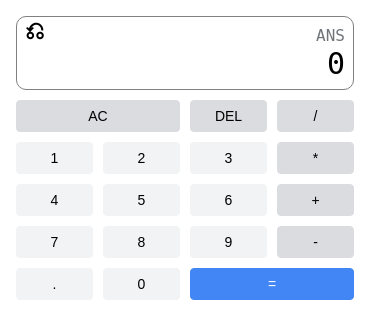
Scenario: Current operation correctly changes after Clear
Press 1
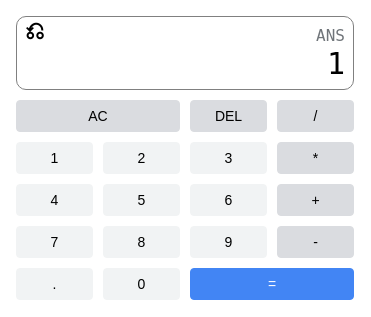
Press +
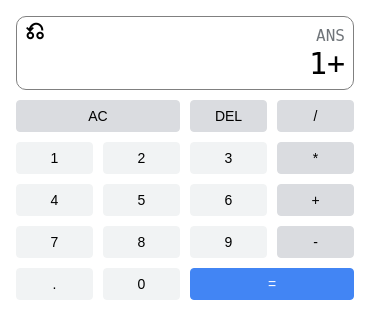
Press 2
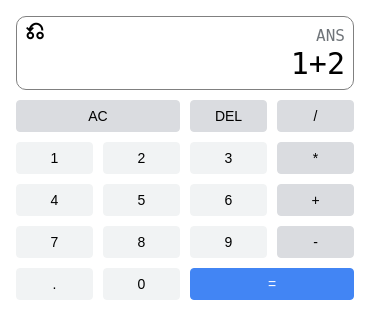
Press 2
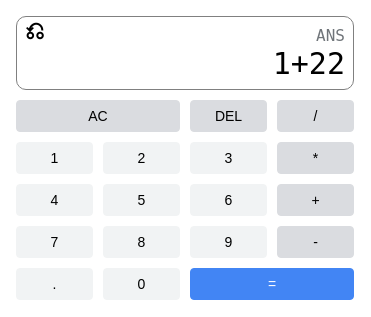
Click the button "AC": point(98, 116) left=16, top=100, right=180, bottom=132
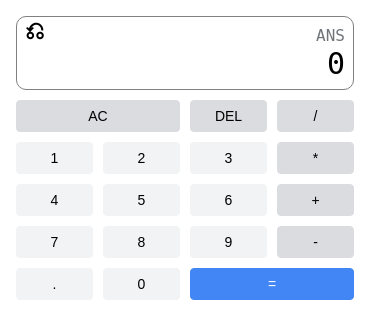
Now the text with test id "current-operation" reads "0", box left=327, top=46, right=345, bottom=80
